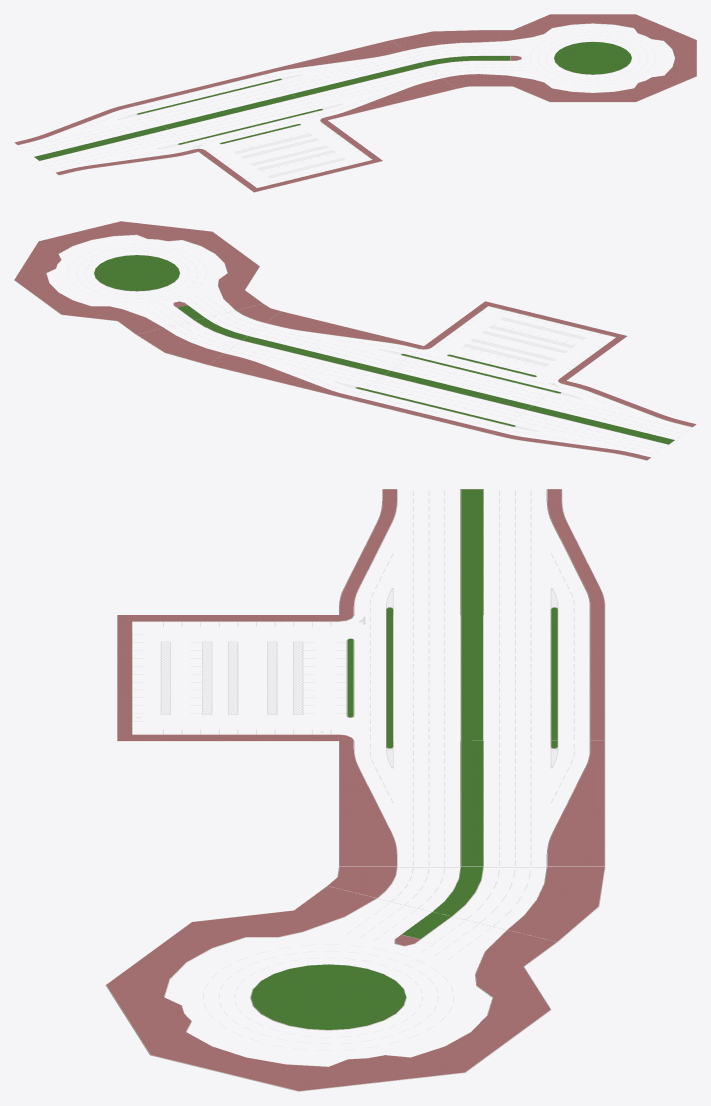
Rendered from pierbroads.glb.
The picture shows the model from 3 angles, top to bottom: view 1: azimuth 30°, elevation 25°; view 2: azimuth 150°, elevation 25°; view 3: azimuth 270°, elevation 25°; orthographic projection. The views are drawn at different scales.
Parts seen in each view (by area): view 1: cityblockassetkit; view 2: cityblockassetkit; view 3: cityblockassetkit.
Part boxes in pixels (x1,y1,x2,y2): cityblockassetkit: (14, 14, 696, 192); cityblockassetkit: (14, 221, 696, 460); cityblockassetkit: (105, 489, 605, 1091).
Bounding box in the file's own units: 364 × 0.111 × 128.
9 materials, 9 textured.
